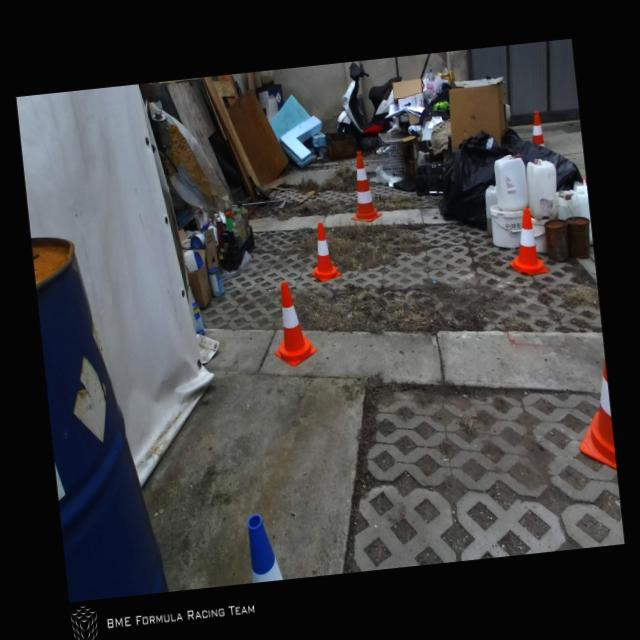large_orange_cone: (343, 150, 382, 223), (528, 110, 544, 148)
orange_cone: (266, 280, 318, 368), (503, 206, 549, 276), (305, 221, 342, 283)
